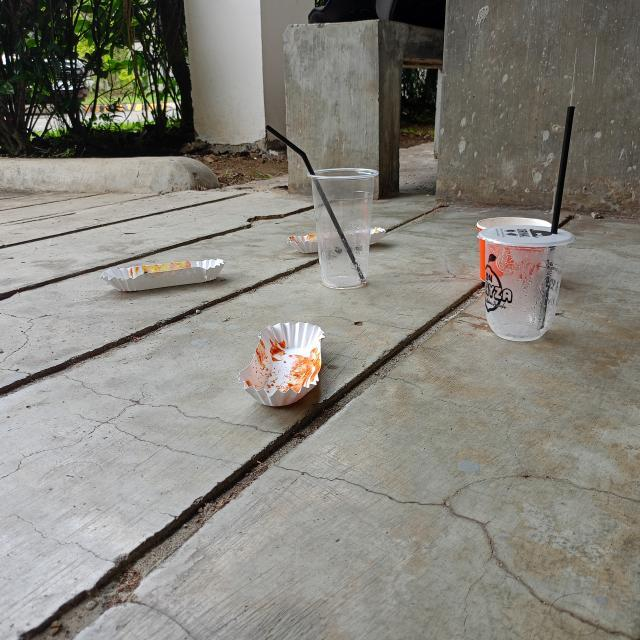recyclable waste: (474, 218, 582, 347), (299, 160, 384, 300), (227, 314, 332, 414), (469, 210, 562, 292), (96, 246, 232, 302), (275, 218, 392, 258)
